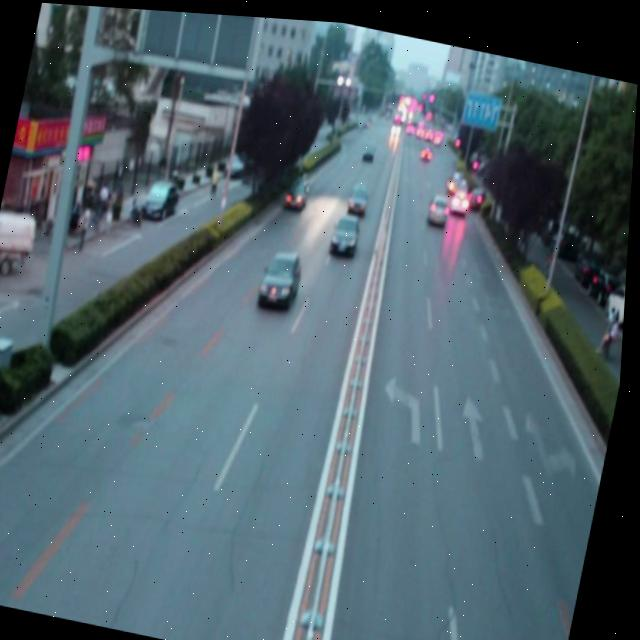car: (259, 243, 308, 310), (330, 208, 364, 254), (285, 170, 313, 211)
